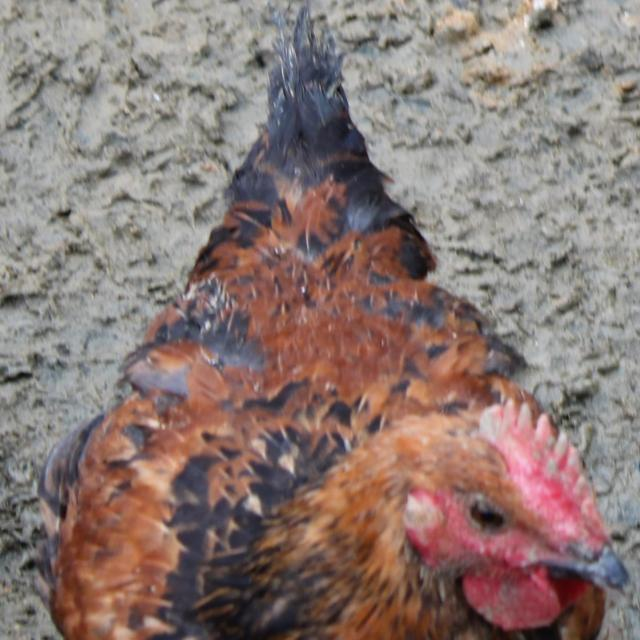cook: (40, 12, 627, 640)
